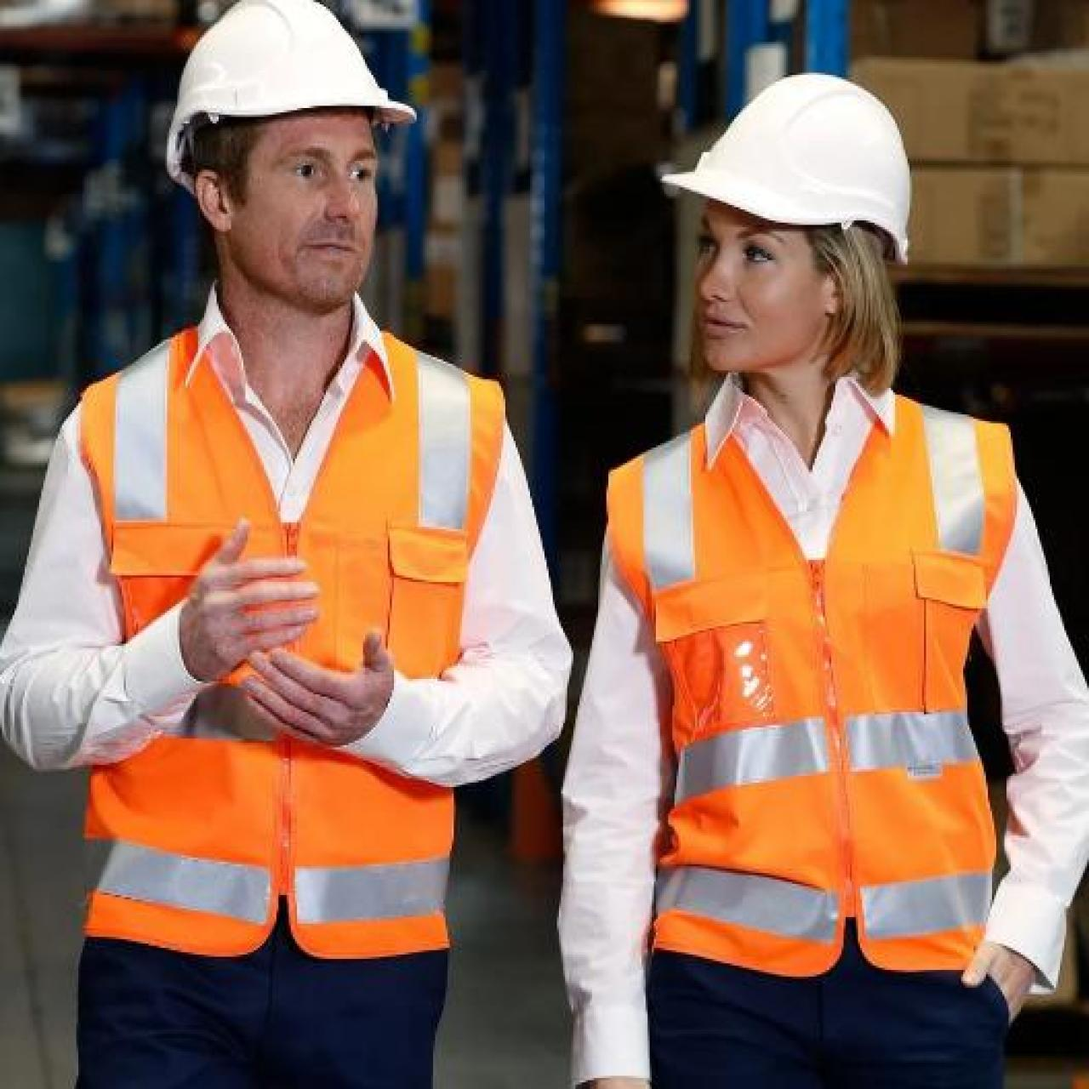Person: (8, 0, 579, 1066), (555, 55, 1089, 1089)
Safety_Vest: (579, 287, 1055, 1089), (46, 290, 540, 990)
